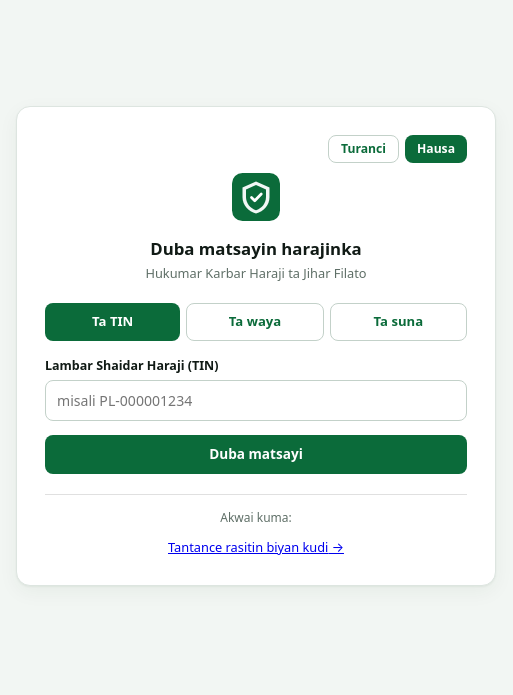
Test: a citizen who finds nothing › names the phone search instead, when that is what was searched
Click the button "Ta waya": click(255, 322) [186,303,324,340]
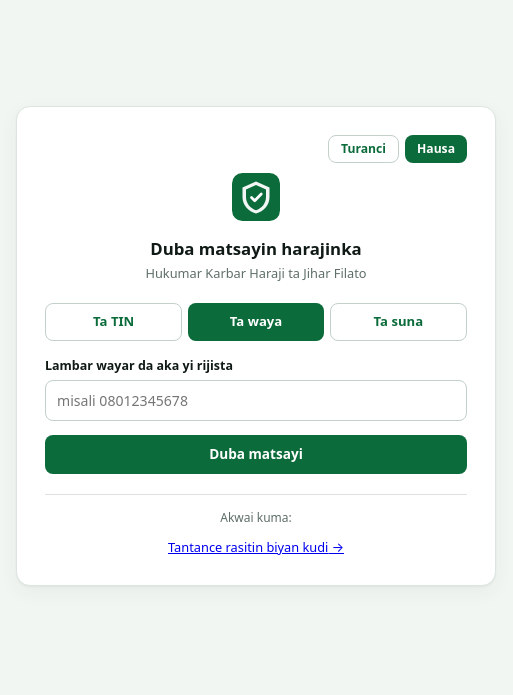
In the field labelled "Lambar wayar da aka yi rijista": (256, 401) [45,380,467,421], type "08012345678"
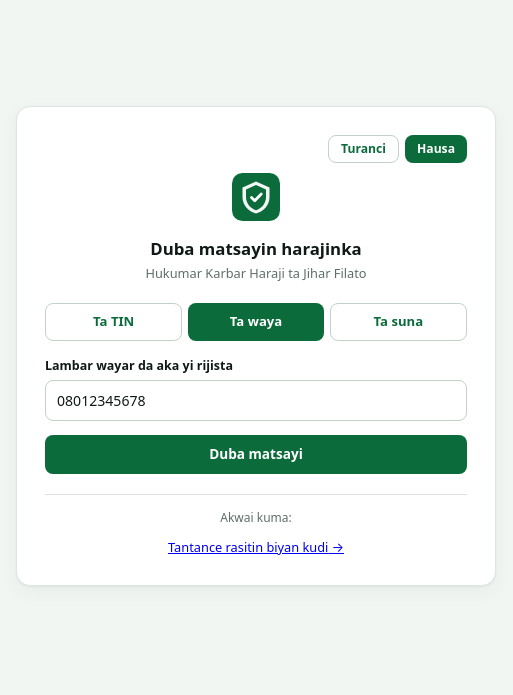
Click the button "Duba matsayi": click(256, 455) [45,435,467,474]
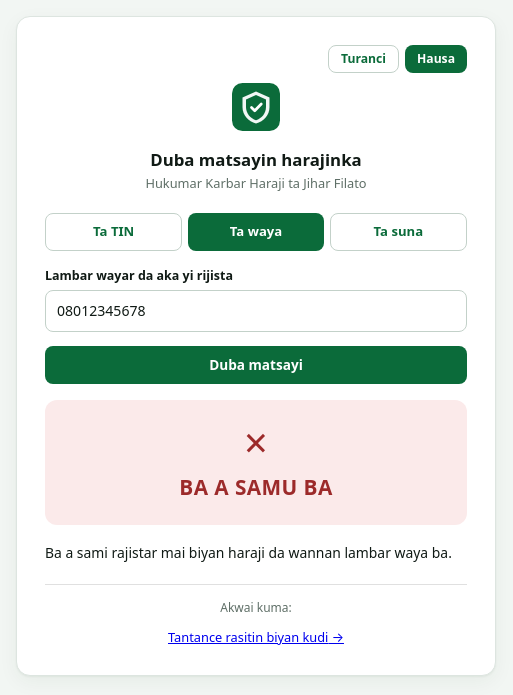
Expected: the text "Ba a sami rajistar mai biyan haraji da wannan lambar waya ba." is shown, [45,543,467,564]
